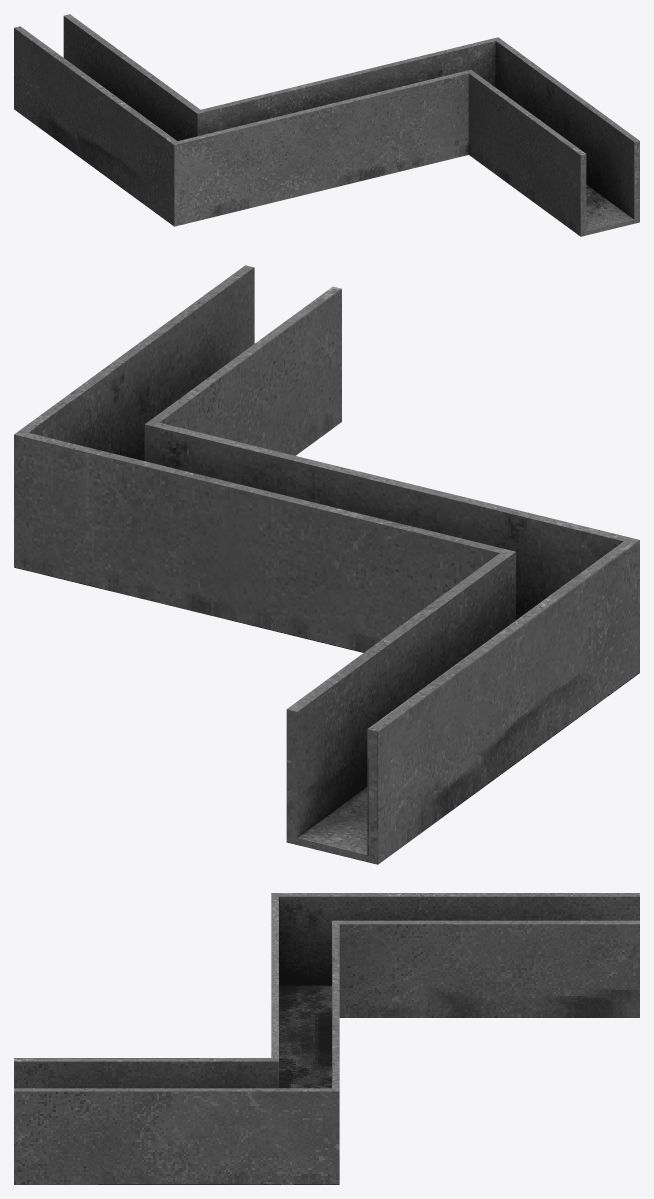
The model's file is CorridorPodval.glb.
3 views of the same model, one above another, from view 1: azimuth 30°, elevation 25°; view 2: azimuth 150°, elevation 25°; view 3: azimuth 270°, elevation 25° (orthographic). The views are drawn at different scales.
Parts seen in each view (by area): view 1: Cube.004; view 2: Cube.004; view 3: Cube.004.
Boxes of the visible parts, x1=… form: Cube.004: x1=14, y1=14, x2=639, y2=236; Cube.004: x1=14, y1=265, x2=639, y2=864; Cube.004: x1=14, y1=893, x2=639, y2=1184.
Size of the model in its own units: 40.4 by 8.9 by 53.9.
Materials: 1 (1 with a texture image).
